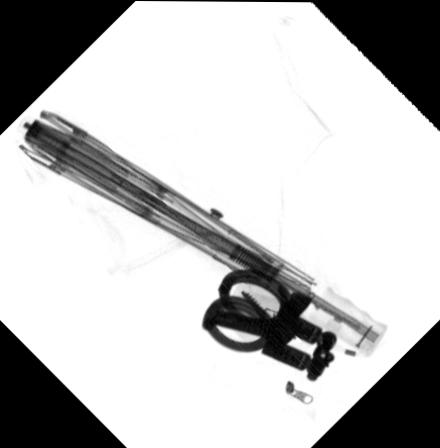Gun: (209, 287, 310, 346)
HandCuffs: (196, 263, 339, 383)
